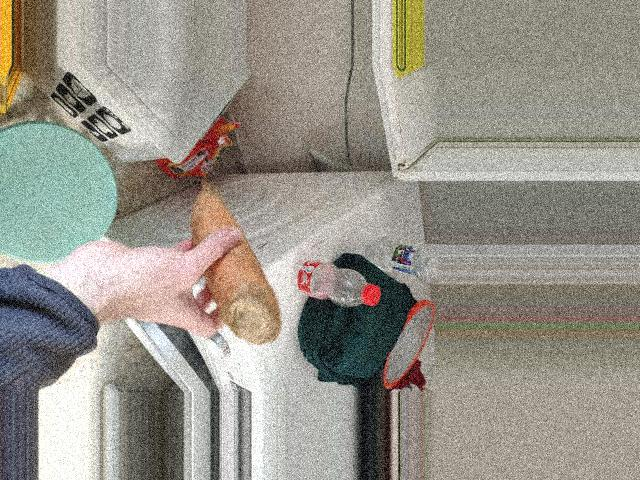sweet_potato: (178, 194, 287, 334)
